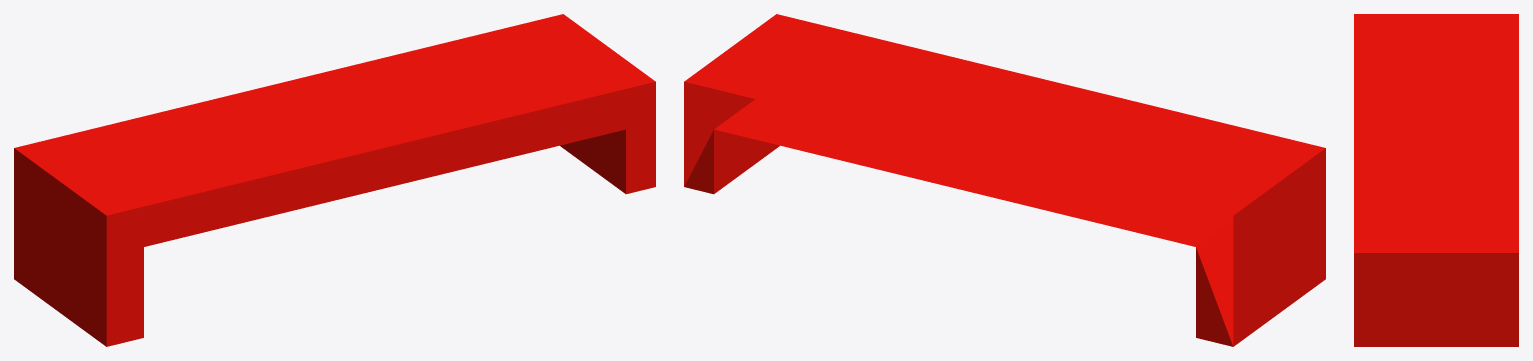
The model's file is Robot2D_StraightC.dae.
3 renders of one model, left to right at view 1: azimuth 30°, elevation 25°; view 2: azimuth 150°, elevation 25°; view 3: azimuth 270°, elevation 25°, orthographic. The views are drawn at different scales.
Visible parts, largest first — view 1: SketchUp; view 2: SketchUp; view 3: SketchUp.
Part boxes in pixels (x1=…): SketchUp: x1=14, y1=14, x2=655, y2=346; SketchUp: x1=684, y1=14, x2=1325, y2=346; SketchUp: x1=1354, y1=14, x2=1518, y2=346.
Bounding box in the file's own units: 0.27 × 0.0787 × 0.0617.
